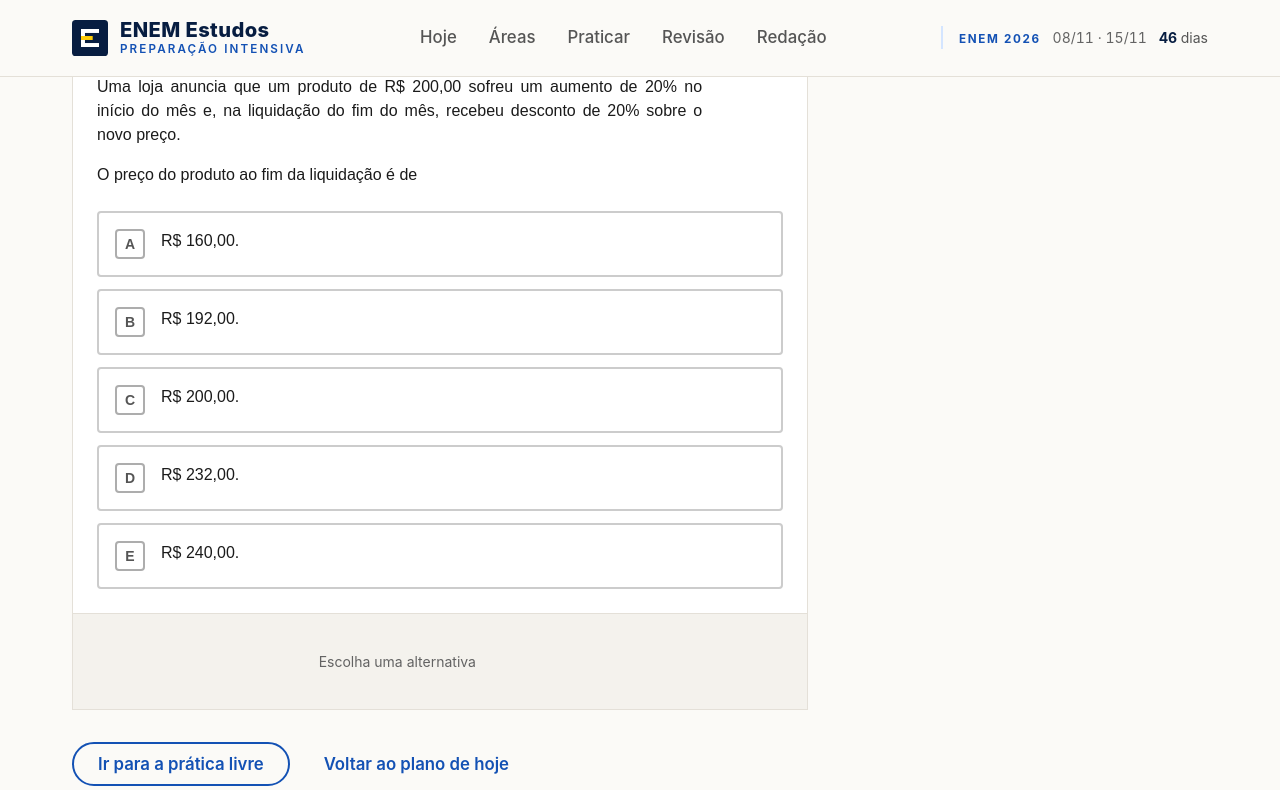
resolução de questão e correção › não comunica o resultado apenas por cor
The image size is (1280, 790).
(page scrolled)
What coordinates should you click on to do the following:
click the button named "Alternativa C"
I would click on:
 (200, 396)
Its box is [97,367,783,433].
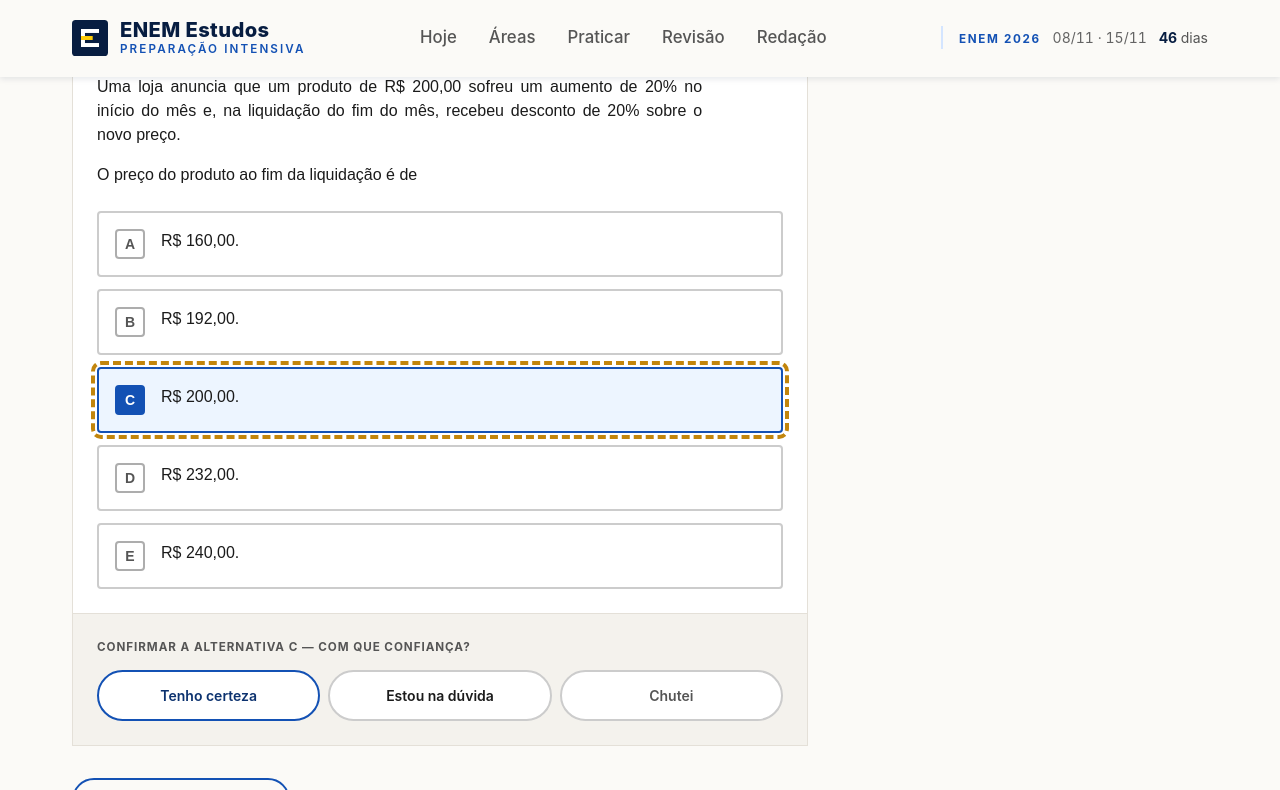
What coordinates should you click on to do the following:
click the button "Tenho certeza"
I would click on:
 (209, 695)
Its box is [97,670,320,721].
(page scrolled)
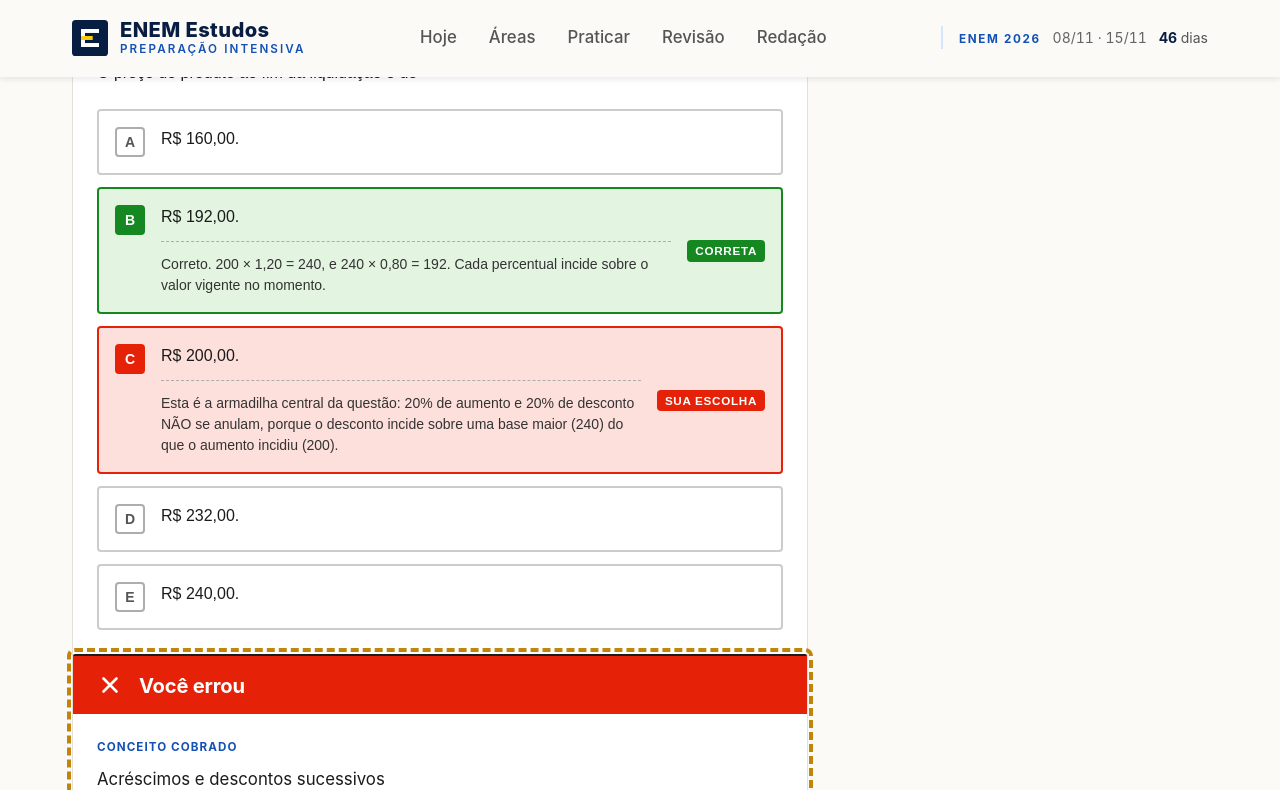
Now the text "Correta" is shown, box [687,240,765,262]
Now the text "Sua escolha" is shown, box [657,390,765,411]
